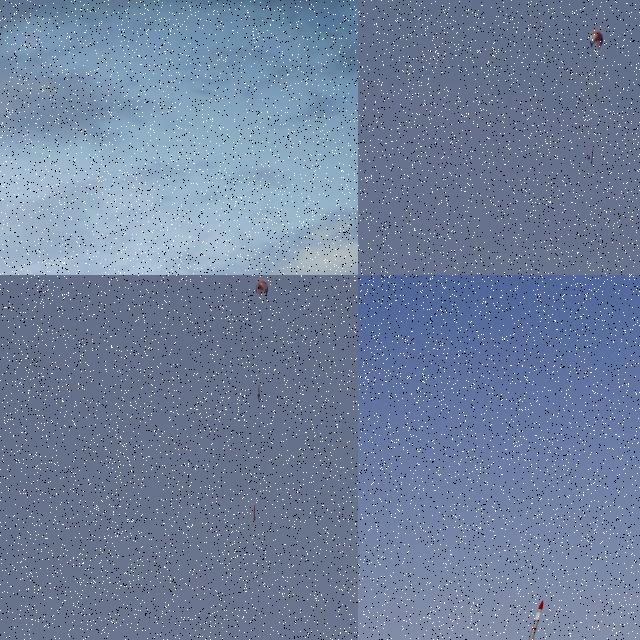Rocket: (521, 599, 543, 640), (253, 504, 256, 522)
